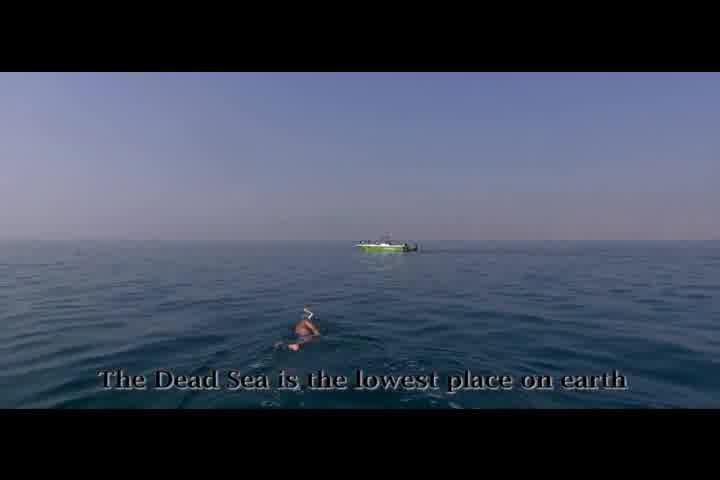swimmer: (291, 314, 323, 353)
